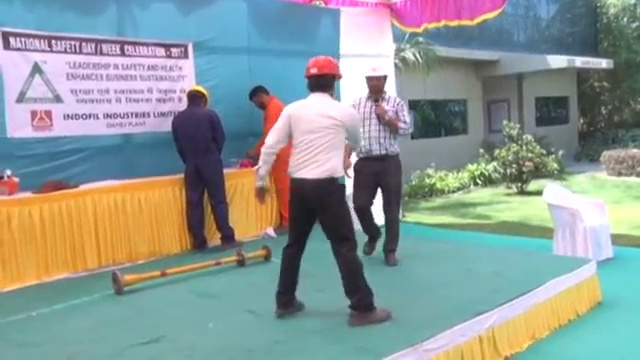helmet: (301, 54, 345, 80), (362, 63, 391, 81), (186, 84, 210, 105)
helmet_off: (245, 84, 274, 113)
helmet_on: (300, 53, 345, 103), (361, 61, 392, 100), (184, 83, 211, 111)
person: (255, 53, 392, 325), (343, 61, 411, 265), (169, 83, 245, 250), (246, 83, 295, 235)
